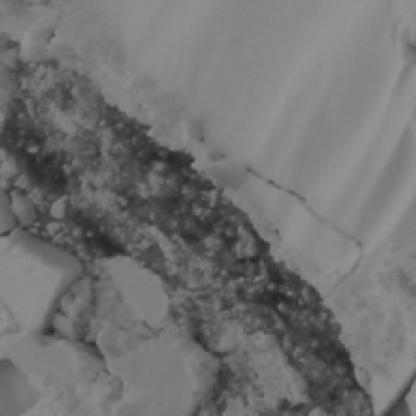polar-bear: (238, 226, 258, 259)
